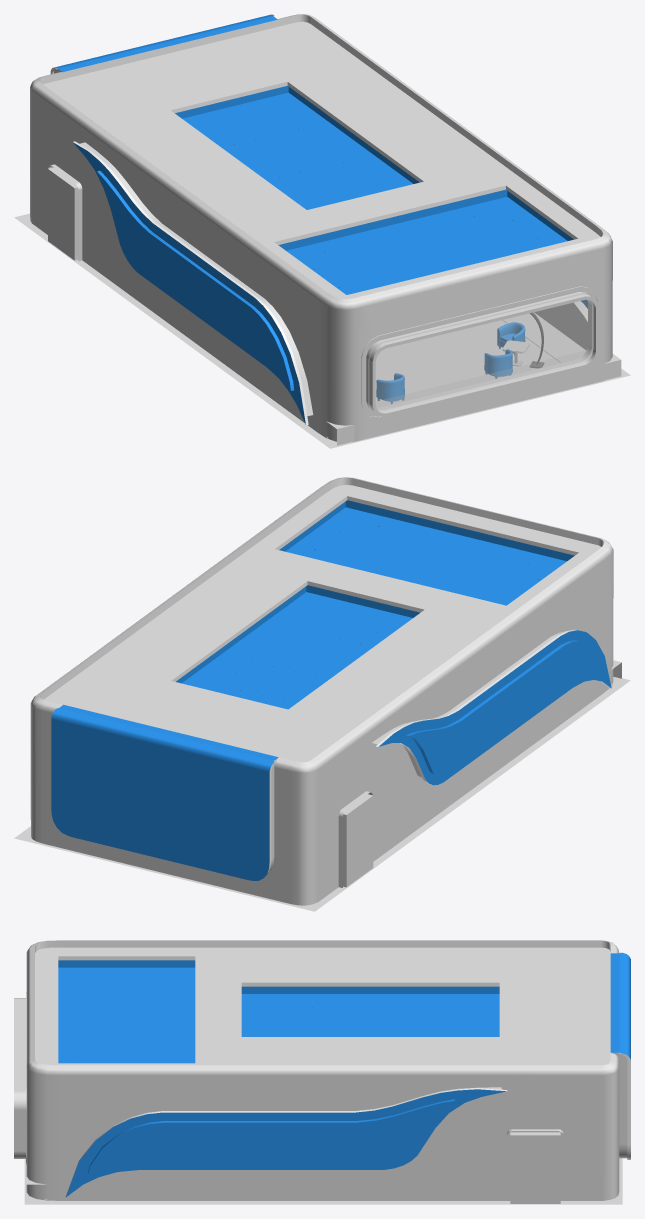
Rendered from vr_metaverse_spaceship_interior_08.glb.
3 renders of one model, top to bottom at view 1: azimuth 30°, elevation 25°; view 2: azimuth 150°, elevation 25°; view 3: azimuth 270°, elevation 25°, orthographic. The views are drawn at different scales.
Visible parts, largest first — view 1: Conference_room_base, Glass, Hologram, Armchair.002, Armchair.003; view 2: Conference_room_base; view 3: Conference_room_base.
Boxes of the visible parts, x1,y1,x2,y2 form: Conference_room_base: (14,14,630,448); Glass: (368,293,594,414); Hologram: (326,354,621,445); Armchair.002: (376,373,404,403); Armchair.003: (484,349,512,378); Conference_room_base: (14,477,630,911); Conference_room_base: (14,940,630,1204).
Size of what is drawn, in the model's own units: 12.12 by 5.2 by 21.96.
Materials: 2 (1 with a texture image).
